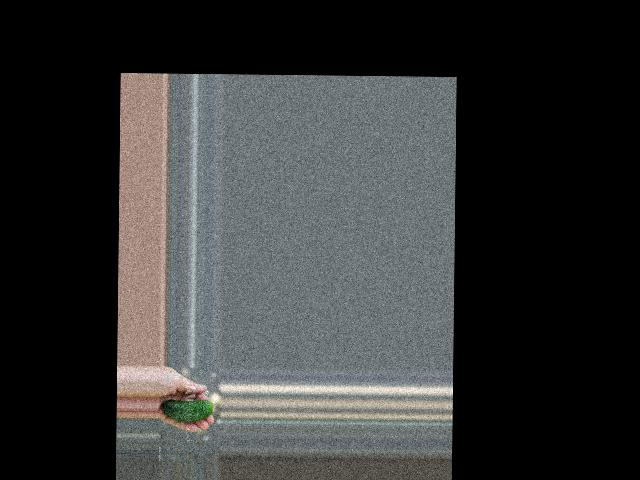cucumber: (161, 399, 213, 422)
